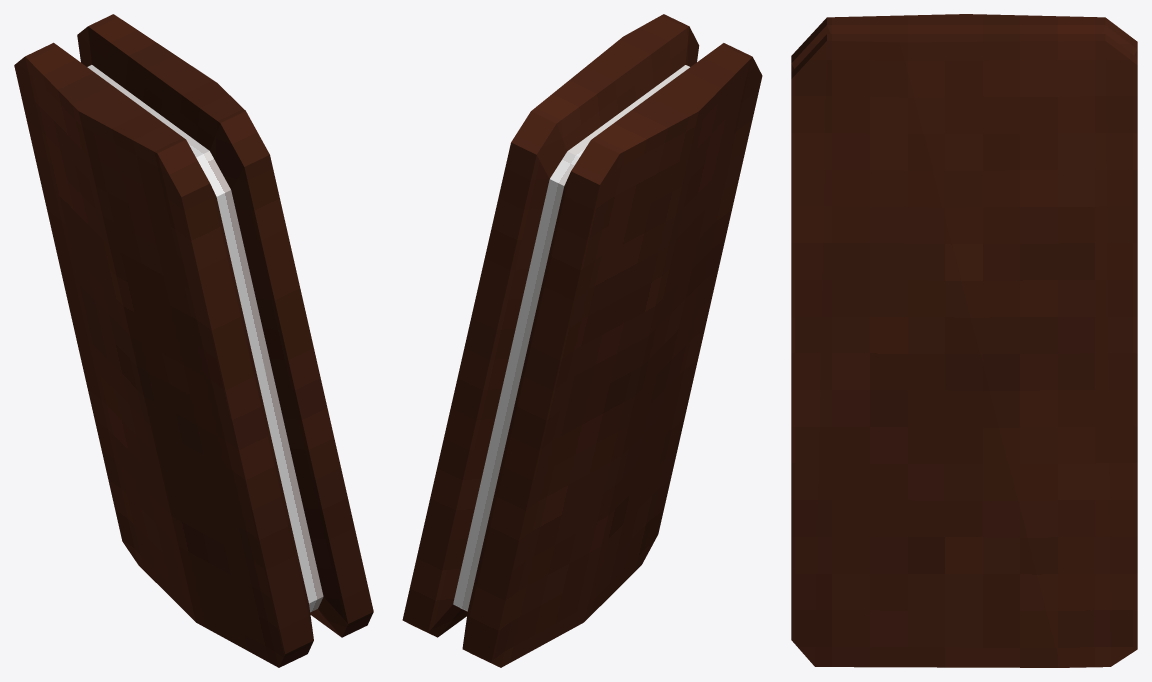
File: H_IcecreamSandwich_Melted.fbx
3 views of the same model, side by side, from view 1: azimuth 30°, elevation 25°; view 2: azimuth 150°, elevation 25°; view 3: azimuth 270°, elevation 25° (orthographic). The views are drawn at different scales.
Visible parts, largest first — view 1: IcecreamSandwich; view 2: IcecreamSandwich; view 3: IcecreamSandwich.
Part boxes in pixels (x1=…): IcecreamSandwich: x1=14, y1=14, x2=373, y2=667; IcecreamSandwich: x1=402, y1=14, x2=762, y2=667; IcecreamSandwich: x1=791, y1=14, x2=1137, y2=667.
Bounding box in the file's own units: 10.34 × 25.22 × 13.35.
